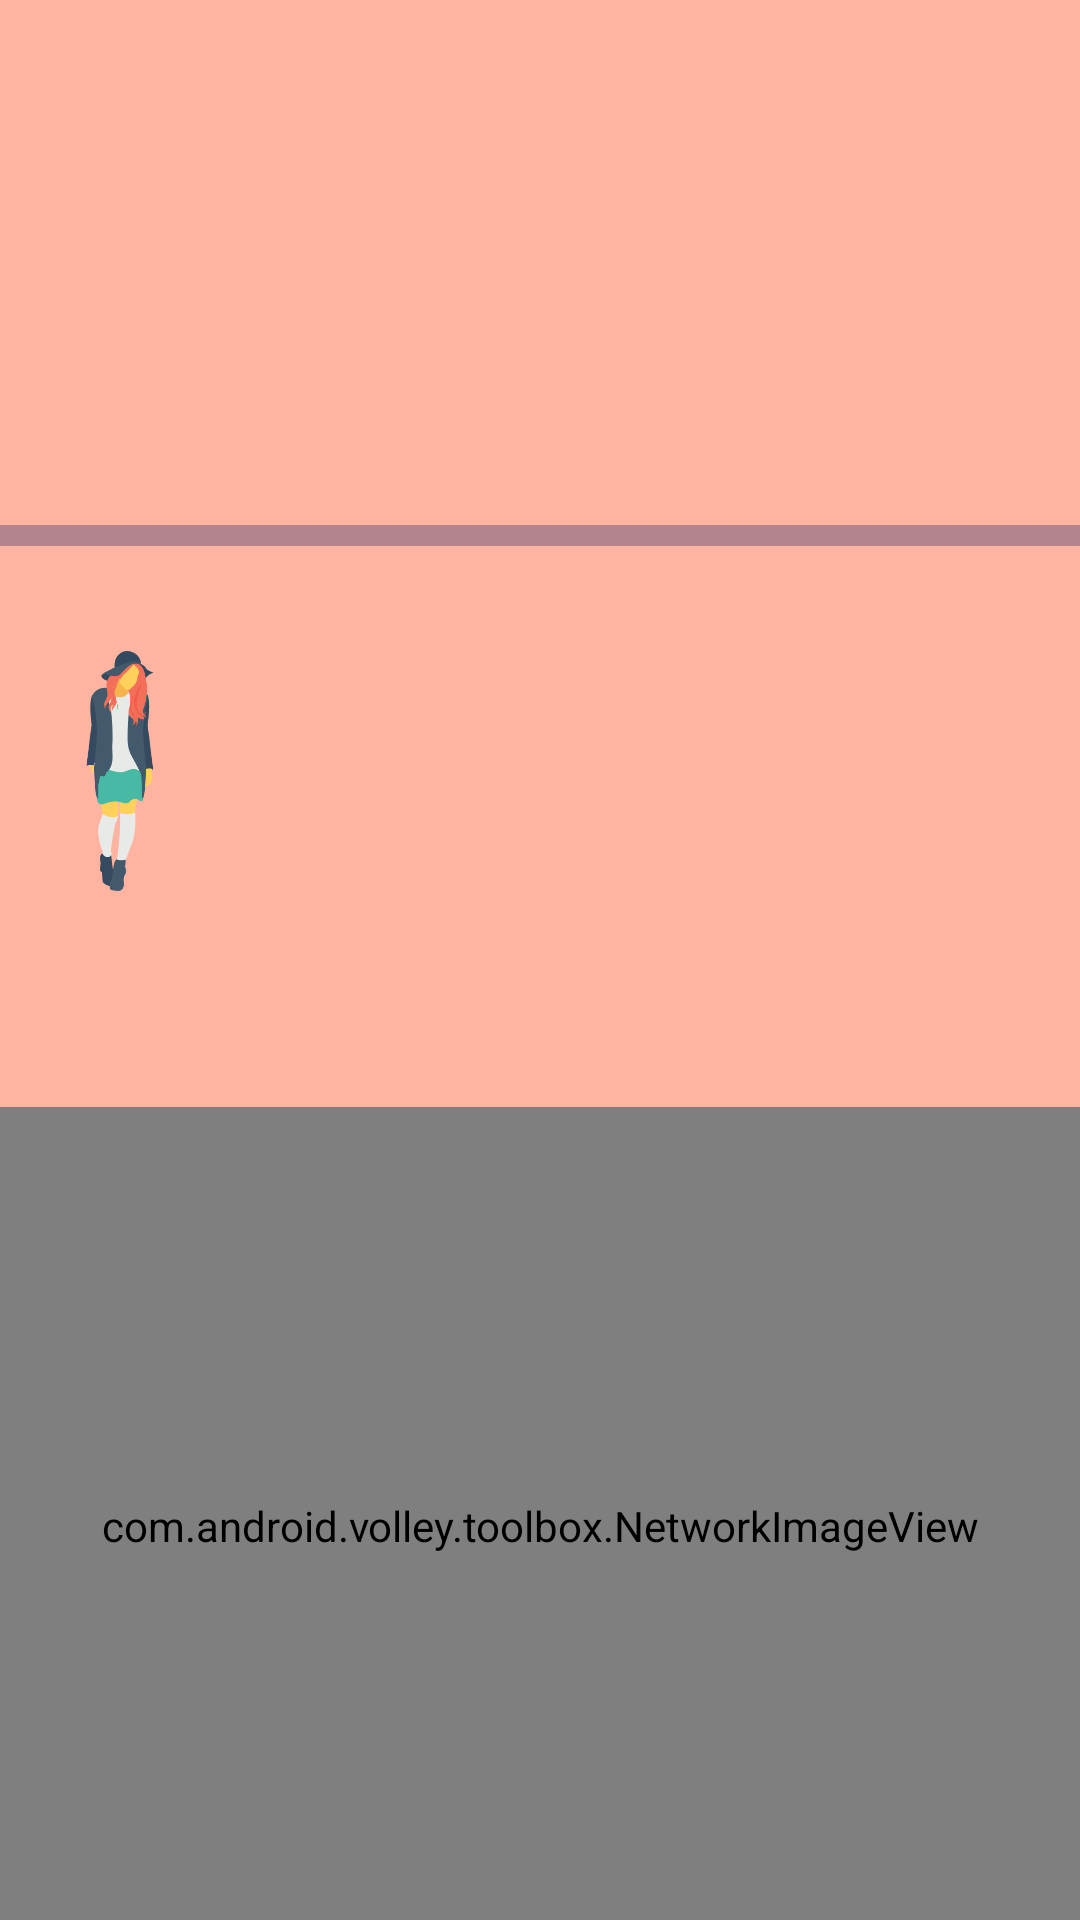

Named icons in this screenshot (1080x1920) and their centers, (x,y):
woman: (119,771)
